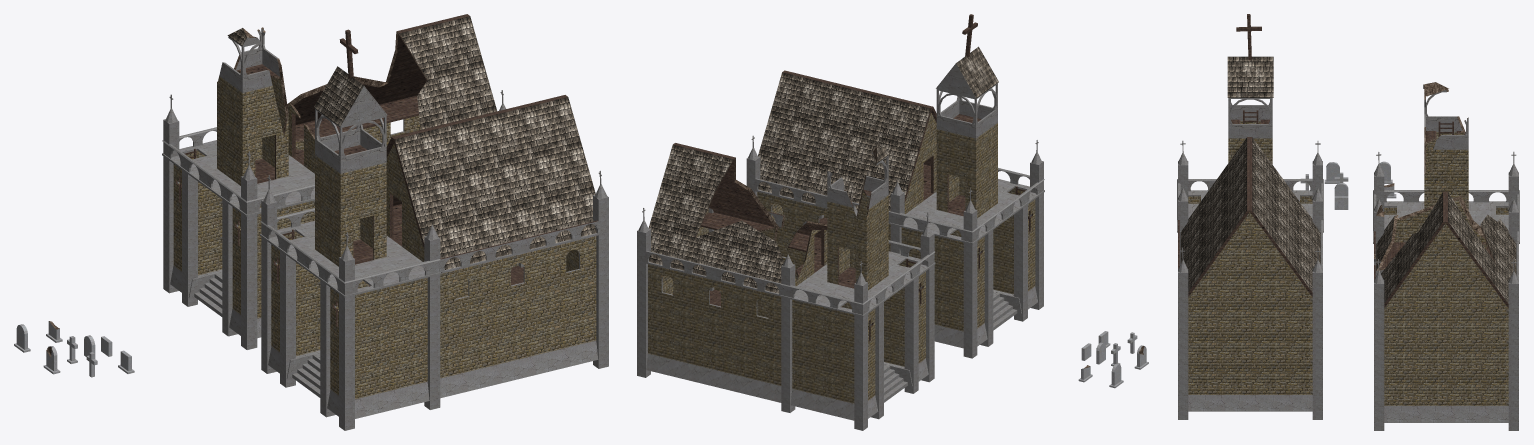
File: Church.fbx
The picture shows the model from 3 angles, left to right: view 1: azimuth 30°, elevation 25°; view 2: azimuth 150°, elevation 25°; view 3: azimuth 270°, elevation 25°; orthographic projection. The views are drawn at different scales.
Visible parts, largest first — view 1: OldChurch1, OldChurch2; view 2: OldChurch2, OldChurch1; view 3: OldChurch1, OldChurch2.
Part boxes in pixels (x1,y1,x2,y2): OldChurch1: (260, 29, 608, 430); OldChurch2: (162, 14, 505, 349); OldChurch2: (637, 143, 935, 430); OldChurch1: (746, 14, 1044, 358); OldChurch1: (1177, 14, 1323, 419); OldChurch2: (1373, 82, 1519, 430).
Size of the model in its own units: 2853 by 2049 by 2008.
